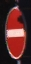No entry: (5, 6, 26, 59)
